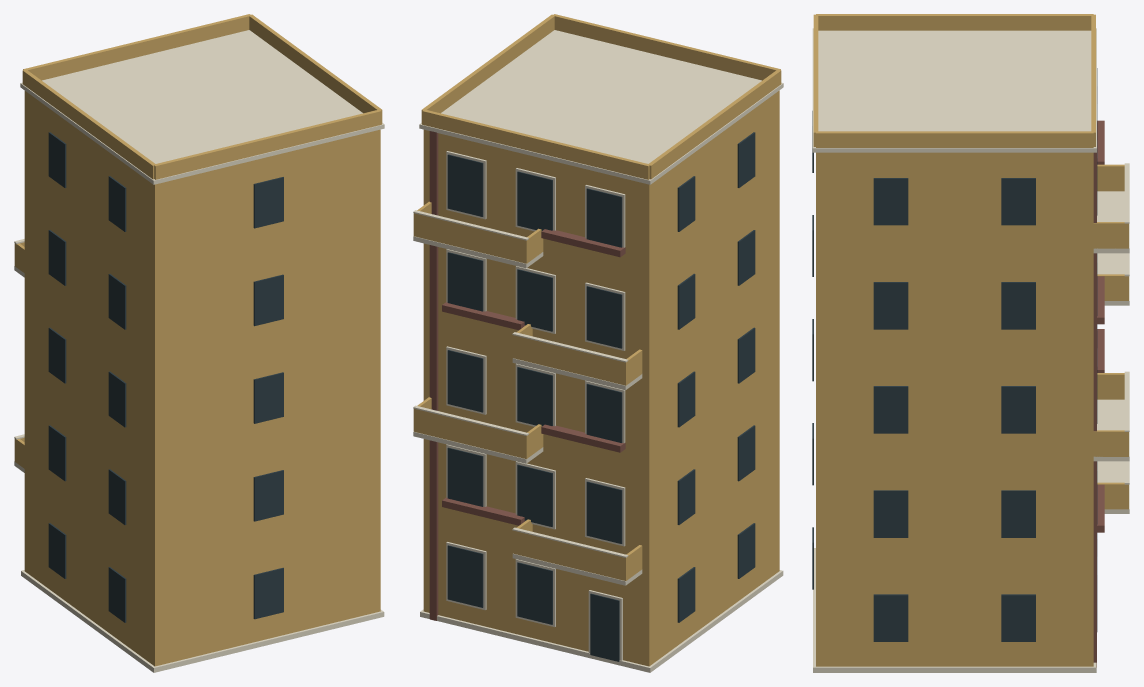
File: KOL_T3_MOD_07.fbx
The picture shows the model from 3 angles, left to right: view 1: azimuth 30°, elevation 25°; view 2: azimuth 150°, elevation 25°; view 3: azimuth 270°, elevation 25°; orthographic projection. The views are drawn at different scales.
Visible parts, largest first — view 1: KOL_T3_MOD_07__Body, KOL_T3_MOD_07__Trim, KOL_T3_MOD_07__Dark; view 2: KOL_T3_MOD_07__Body, KOL_T3_MOD_07__Trim, KOL_T3_MOD_07__Dark, KOL_T3_MOD_07__Accent; view 3: KOL_T3_MOD_07__Body, KOL_T3_MOD_07__Trim, KOL_T3_MOD_07__Dark, KOL_T3_MOD_07__Accent.
Boxes of the visible parts, x1,y1,x2,y2 form: KOL_T3_MOD_07__Body: (14,14,382,666); KOL_T3_MOD_07__Trim: (14,30,384,672); KOL_T3_MOD_07__Dark: (48,132,283,622); KOL_T3_MOD_07__Body: (413,14,781,666); KOL_T3_MOD_07__Trim: (413,30,783,672); KOL_T3_MOD_07__Dark: (447,132,755,661); KOL_T3_MOD_07__Accent: (429,131,625,620); KOL_T3_MOD_07__Body: (813,14,1128,666); KOL_T3_MOD_07__Trim: (812,28,1129,672); KOL_T3_MOD_07__Dark: (812,68,1097,641); KOL_T3_MOD_07__Accent: (1093,120,1104,667).
Bounding box in the file's own units: 29.74 × 62.15 × 33.12.
